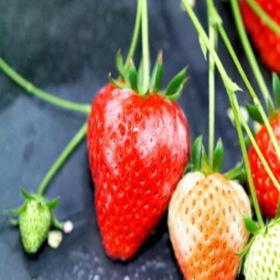Powdery Mildew Fruit: (85, 79, 190, 210)
